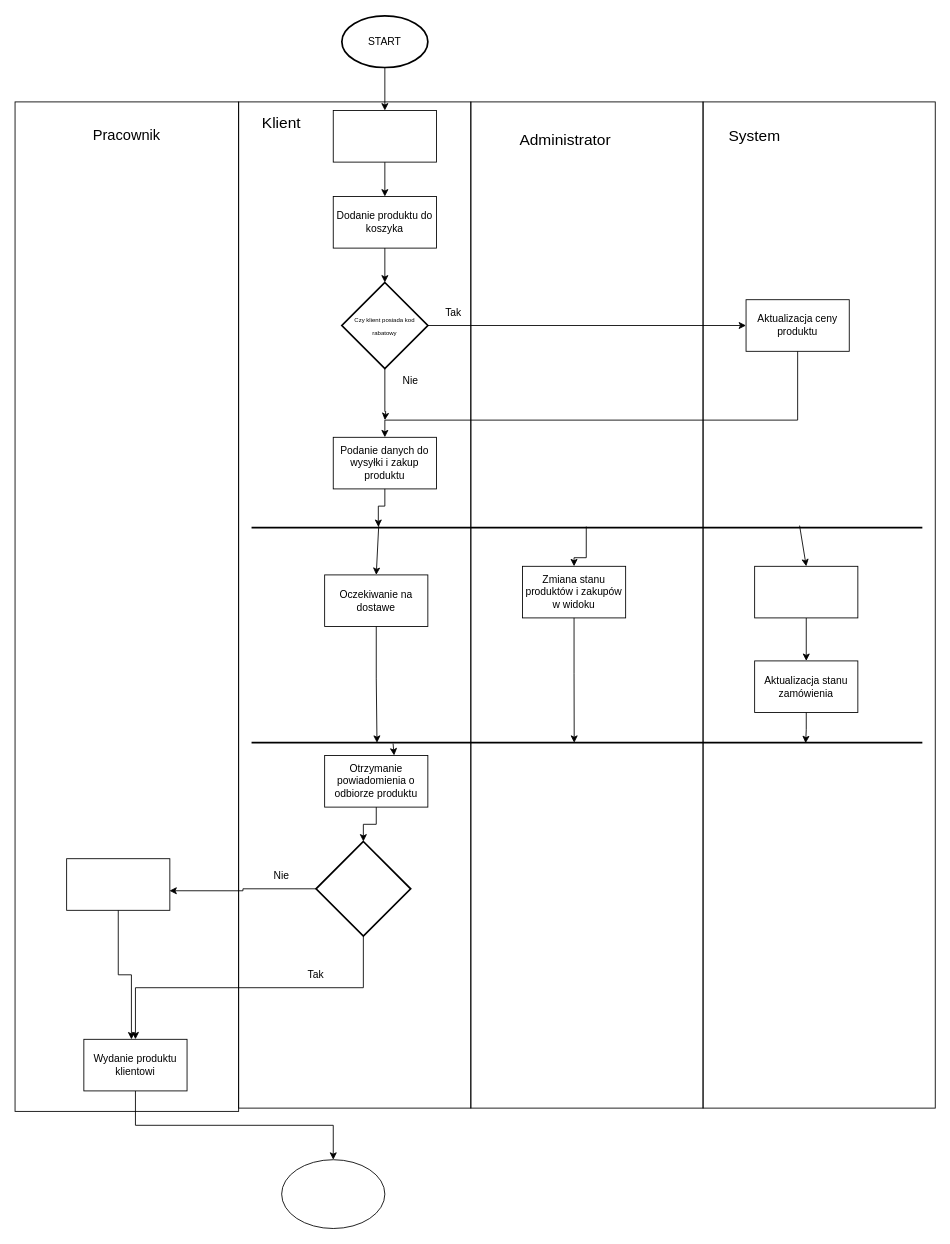
Image size: 950x1244. Some labels were removed from this diagram. The centre of each missing label's shape, as x and y in pixels:
"Czy klient zapłacił za produkt w aplikacji?" goes at point (363, 888).
"KONIEC" goes at point (333, 1194).
"Odebranie zapłaty za produkt od klienta" goes at point (118, 884).
"Przeglądanie oferty" goes at point (384, 136).
"Zmiana stanu magazynu" goes at point (806, 591).
